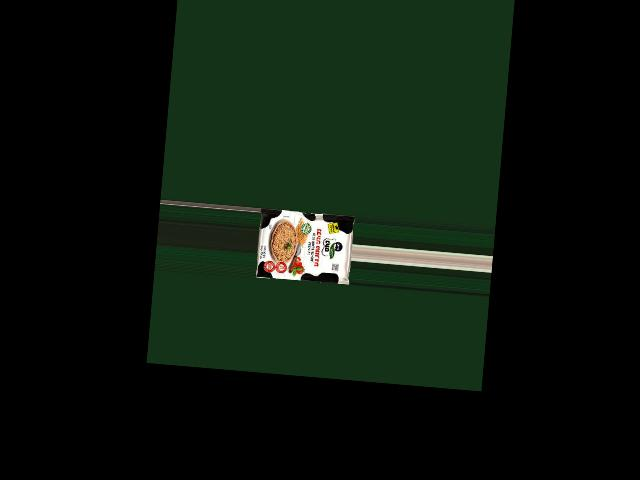cheese: (258, 207, 347, 296)
